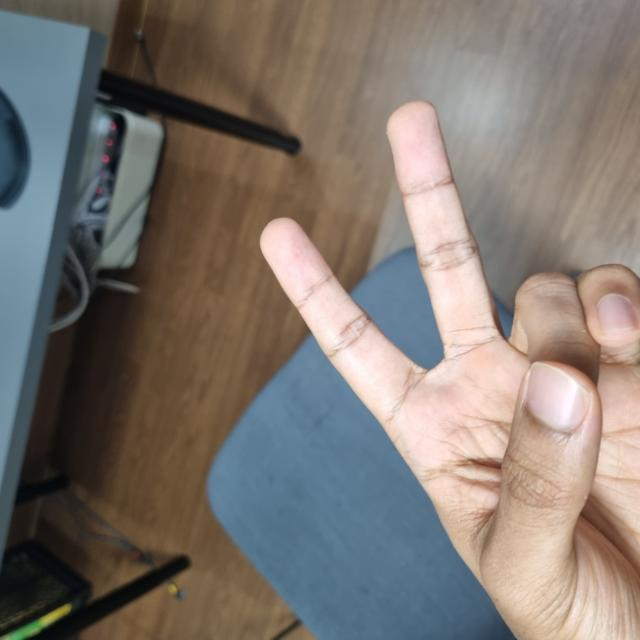Scissors: (8, 264, 534, 639)
